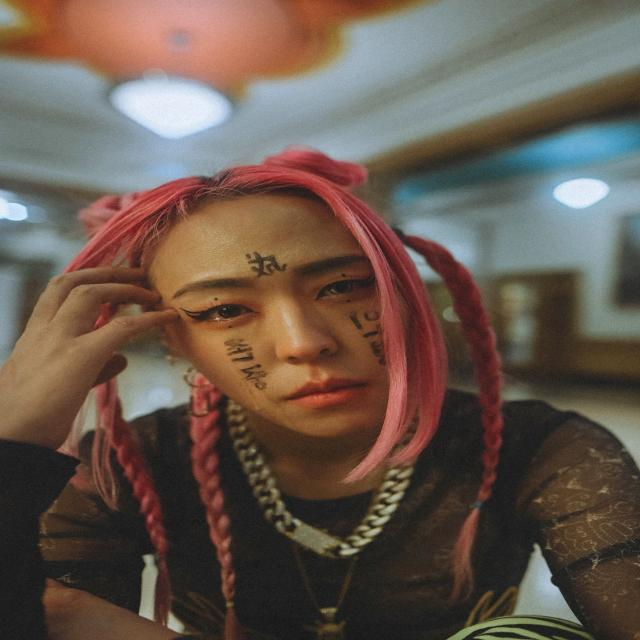adult: (0, 155, 625, 640)
